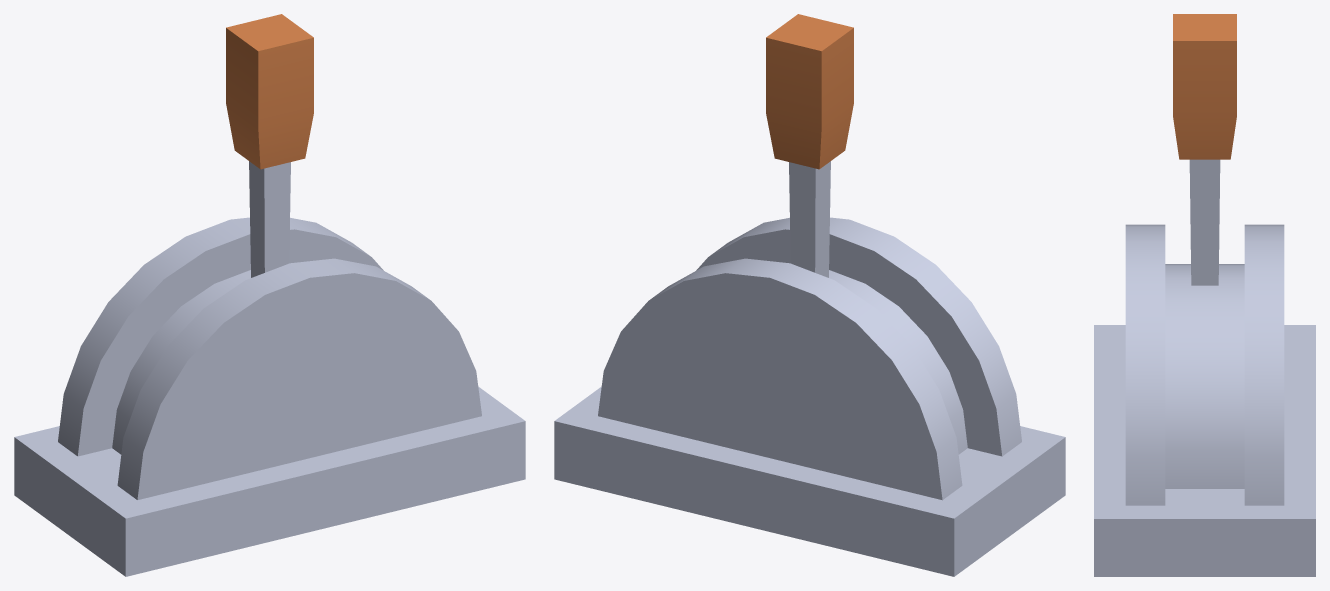
The model's file is lever.fbx.
The picture shows the model from 3 angles, left to right: view 1: azimuth 30°, elevation 25°; view 2: azimuth 150°, elevation 25°; view 3: azimuth 270°, elevation 25°; orthographic projection.
Parts seen in each view (by area): view 1: lever, handle; view 2: lever, handle; view 3: lever, handle.
Part boxes in pixels (box(x1,y1,x2,y2)): lever: box(14, 217, 525, 576); handle: box(226, 14, 313, 277); lever: box(554, 217, 1065, 576); handle: box(766, 14, 853, 277); lever: box(1094, 224, 1315, 576); handle: box(1173, 14, 1236, 285).
Bounding box in the file's own units: 5.8 × 6.3 × 2.8.
